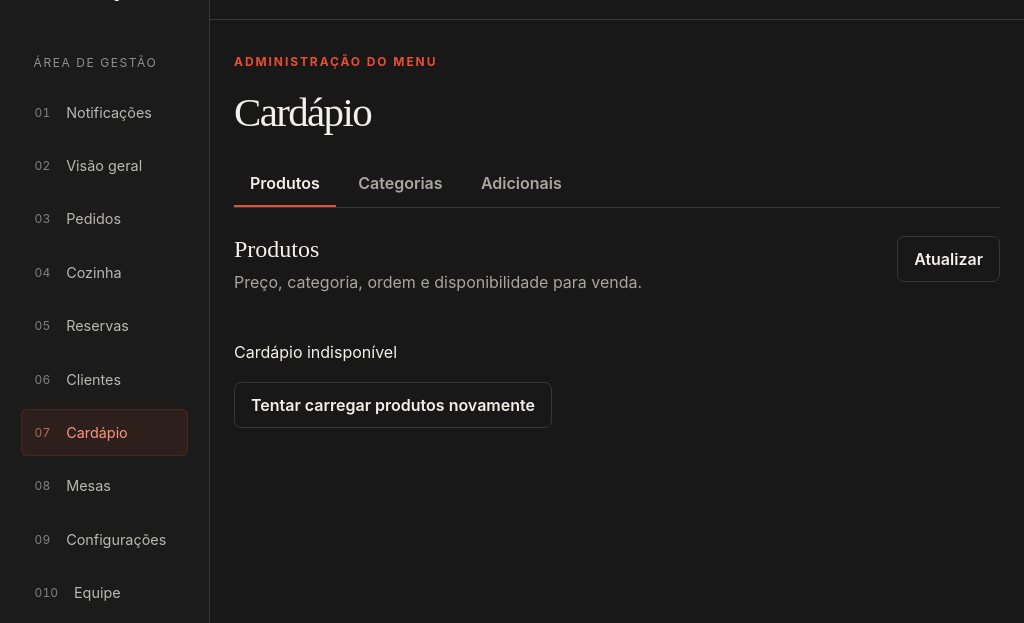
Test: Catalog UI › shows list errors with retry and preserves backend mutation errors
Expected: the text "Cardápio indisponível" is shown, [234, 342, 397, 362]
Click the button "Tentar carregar produtos novamente" at (393, 405), box [234, 382, 552, 428]
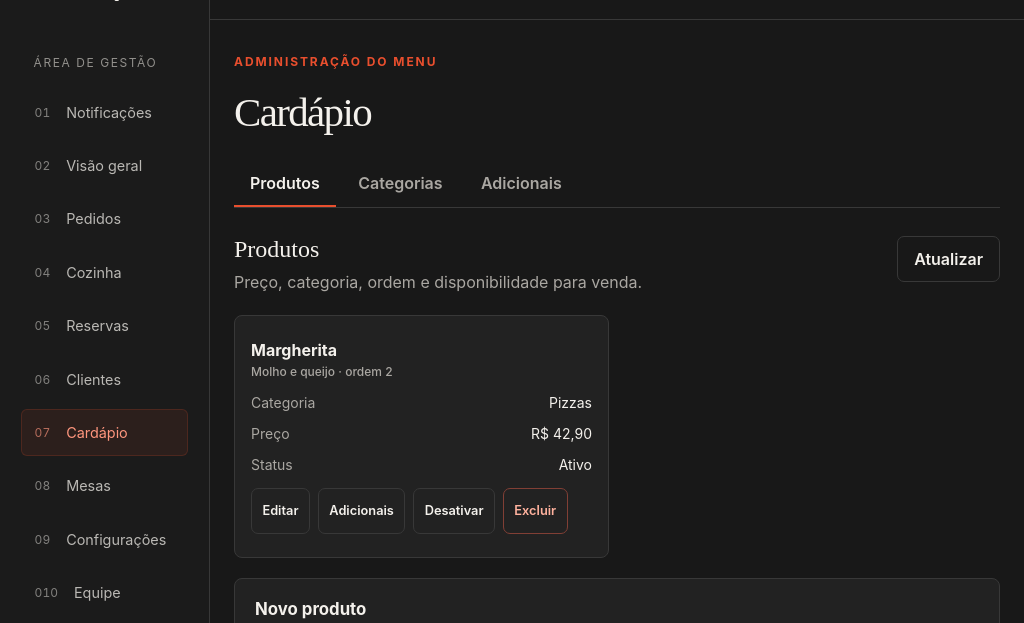
Expected: the text "Margherita" is shown, [251, 340, 337, 360]
Click the button "Editar" at (280, 511), box [251, 488, 310, 534]
(page scrolled)
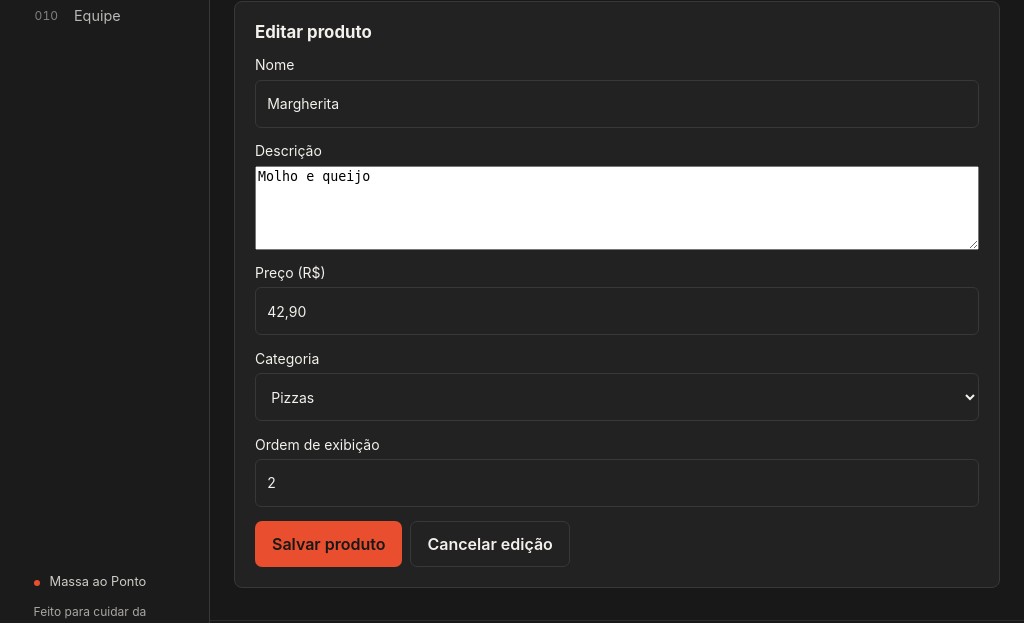
Click the button "Salvar produto" at (329, 544), box [255, 521, 402, 567]
(page scrolled)
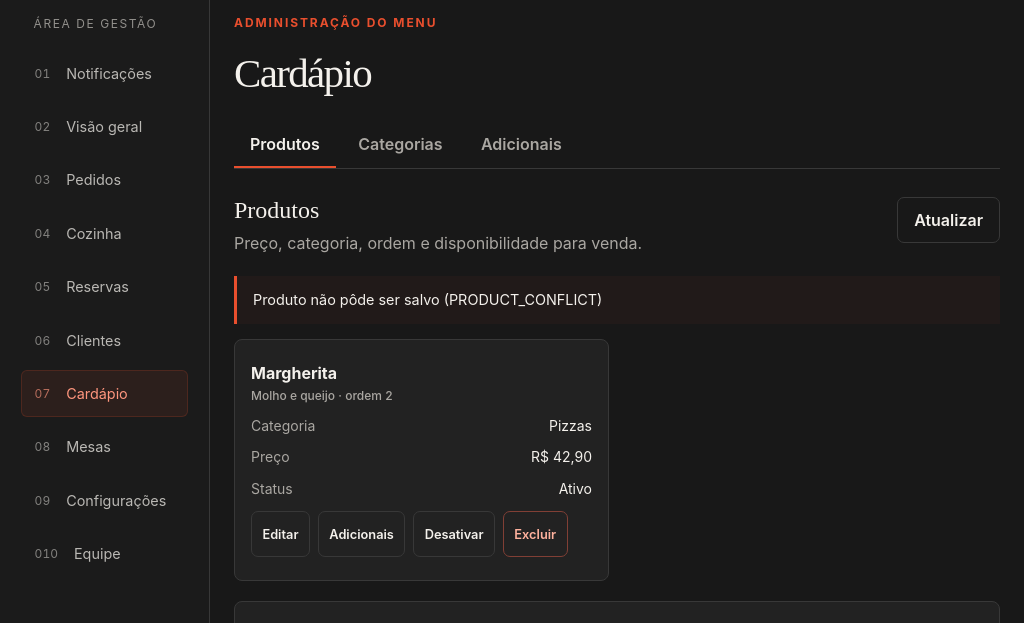
Expected: the text "Produto não pôde ser salvo (PRODUCT_CONFLICT)" is shown, [234, 276, 1000, 324]
